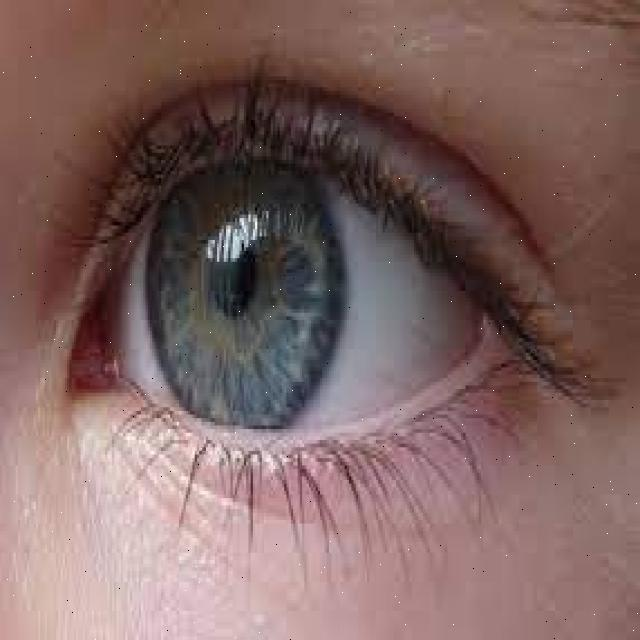Normal: (42, 58, 620, 582)
